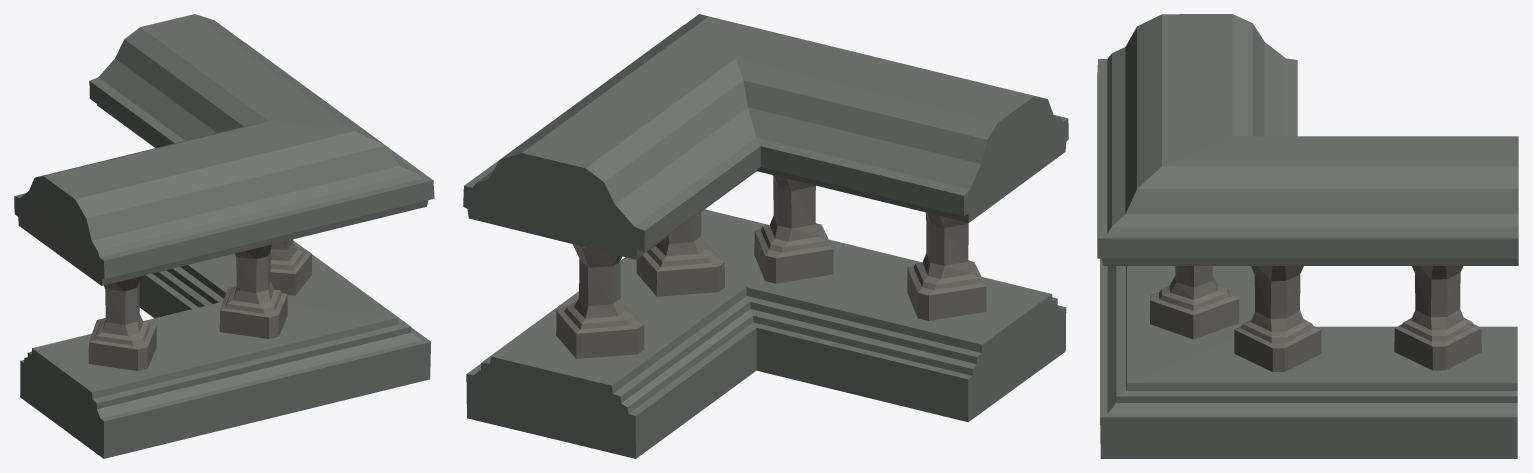
The model's file is MCastle_Baluster_Corner_01.FBX.
The picture shows the model from 3 angles, left to right: view 1: azimuth 30°, elevation 25°; view 2: azimuth 150°, elevation 25°; view 3: azimuth 270°, elevation 25°; orthographic projection. The views are drawn at different scales.
Visible parts, largest first — view 1: MCastle_Baluster_Corner_01_LOD0; view 2: MCastle_Baluster_Corner_01_LOD0; view 3: MCastle_Baluster_Corner_01_LOD0.
Part boxes in pixels (bbox=[...]): MCastle_Baluster_Corner_01_LOD0: bbox=[14, 14, 434, 458]; MCastle_Baluster_Corner_01_LOD0: bbox=[463, 14, 1068, 458]; MCastle_Baluster_Corner_01_LOD0: bbox=[1097, 14, 1518, 458].
Size of what is drawn, in the model's own units: 1.73 by 1.2 by 1.72.
